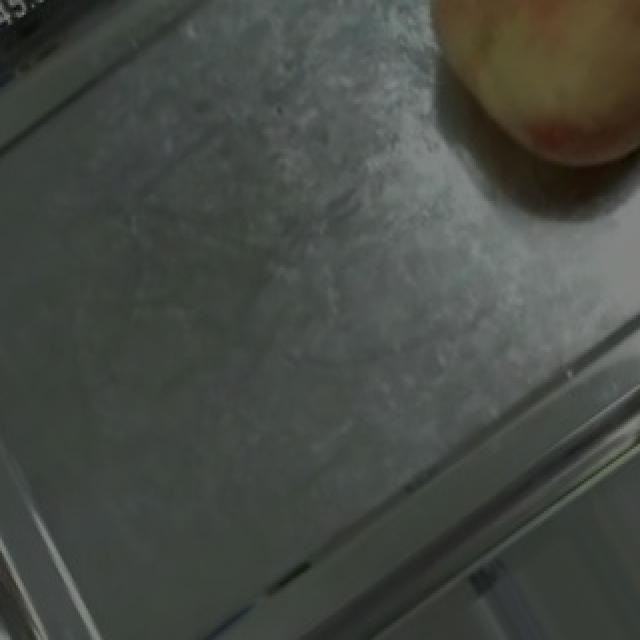Fruit: (392, 0, 640, 203)
